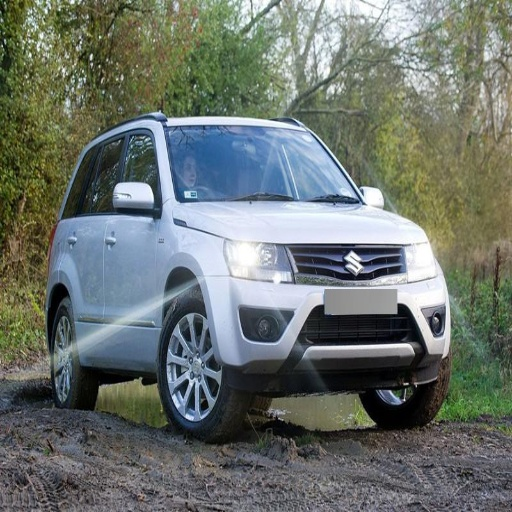front_bumper: (206, 243, 447, 387)
front_right_door: (107, 125, 160, 326)
front_right_light: (224, 240, 295, 281)
hood: (183, 205, 425, 240)
